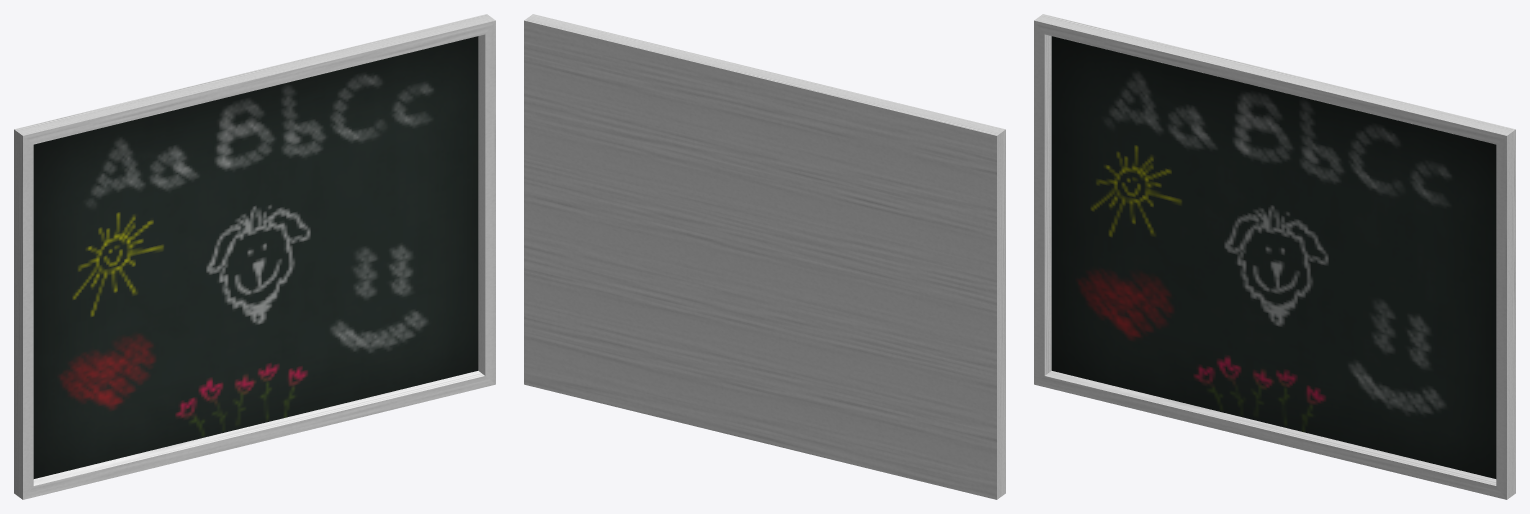
File: Chalkboard_E.FBX
3 renders of one model, left to right at view 1: azimuth 30°, elevation 25°; view 2: azimuth 150°, elevation 25°; view 3: azimuth 330°, elevation 25°, orthographic.
Parts seen in each view (by area): view 1: Chalk_Board; view 2: Chalk_Board; view 3: Chalk_Board.
Part boxes in pixels (<box>): Chalk_Board: <box>14,14,495,499</box>; Chalk_Board: <box>524,14,1005,499</box>; Chalk_Board: <box>1034,14,1515,499</box>.
Size of the model in its own units: 143 by 105 by 4.7.
